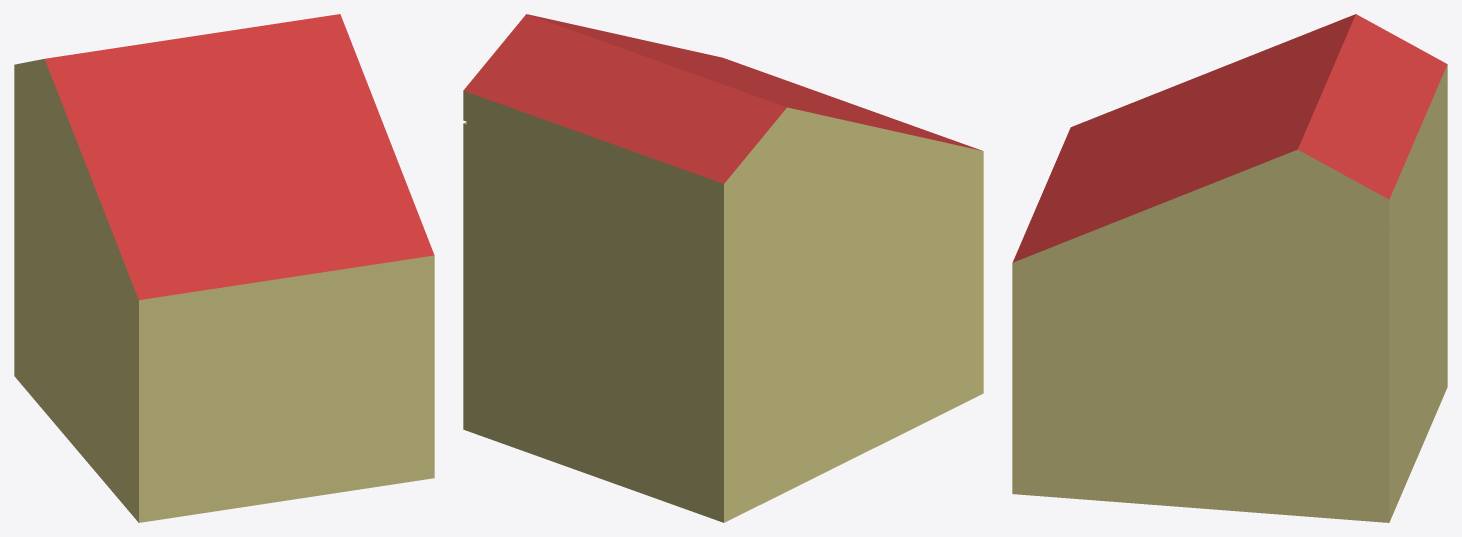
The picture shows the model from 3 angles, left to right: view 1: azimuth 30°, elevation 25°; view 2: azimuth 150°, elevation 25°; view 3: azimuth 270°, elevation 25°; orthographic projection. The views are drawn at different scales.
Bounding box in the file's own units: 12.15 × 13.59 × 12.62.
